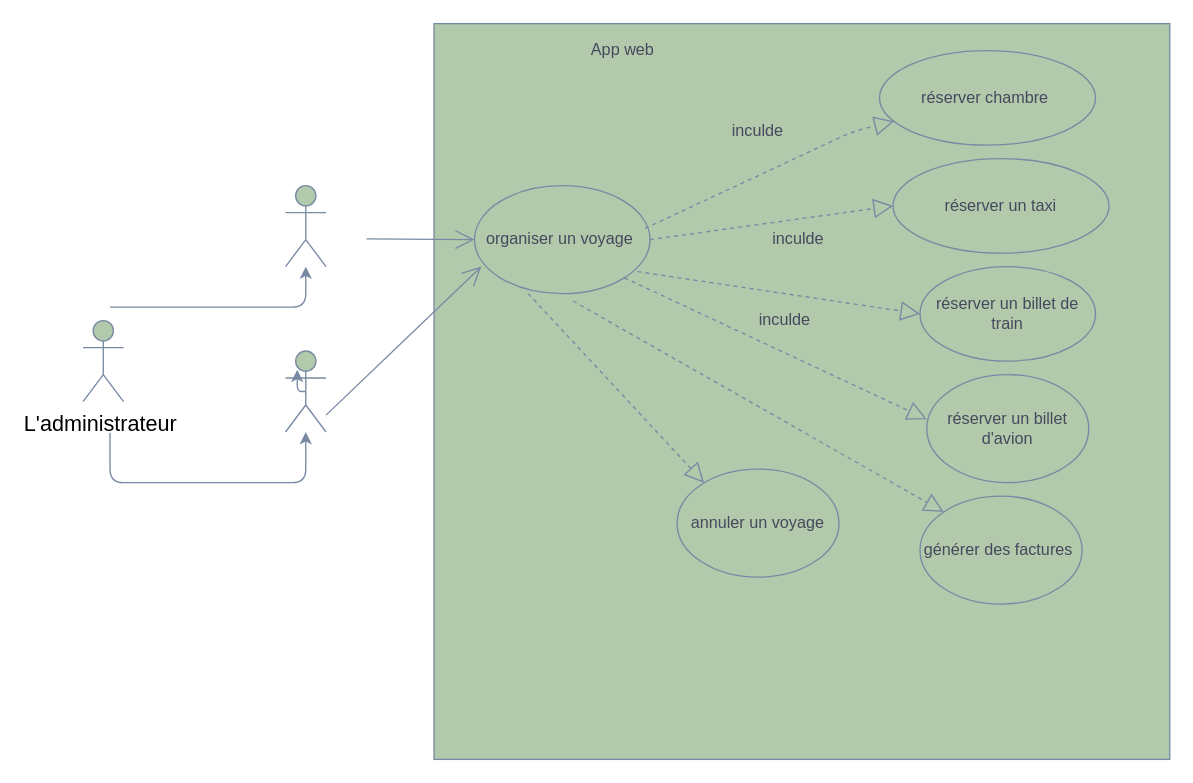
Image size: 1193x783. Some labels were removed from this diagram. The shapes that lost their labels are listed below. From the top down, each one's centre as x and y in pixels, then its label:
At [305,225]: "Agent de voyage".
At [305,391]: "Directeur".
